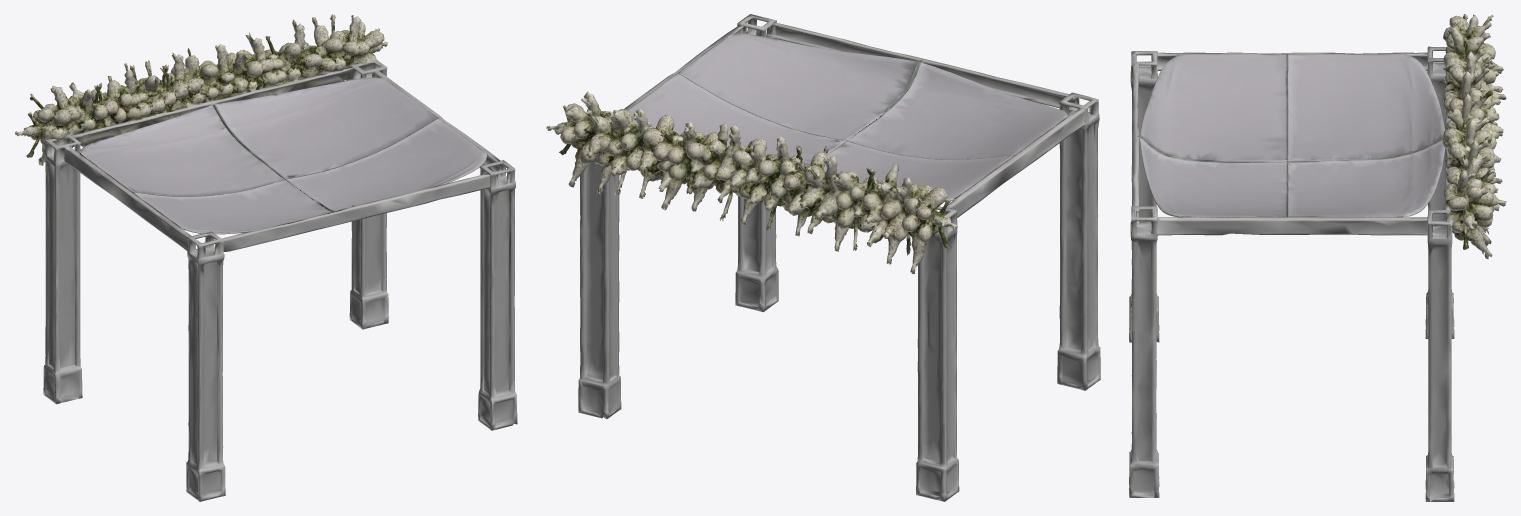
Rendered from chuppah-acrylic.glb.
3 renders of one model, left to right at view 1: azimuth 30°, elevation 25°; view 2: azimuth 150°, elevation 25°; view 3: azimuth 270°, elevation 25°, orthographic. The views are drawn at different scales.
Visible parts, largest first — view 1: tripo_part_1, tripo_part_0, tripo_part_2, tripo_part_4, tripo_part_3, tripo_part_5, tripo_part_6, tripo_part_7; view 2: tripo_part_1, tripo_part_0, tripo_part_4, tripo_part_3, tripo_part_5, tripo_part_2, tripo_part_6, tripo_part_7; view 3: tripo_part_1, tripo_part_2, tripo_part_0, tripo_part_5, tripo_part_4, tripo_part_3, tripo_part_7, tripo_part_6.
Boxes of the visible parts, <box> form: tripo_part_1: <box>79,77,487,234</box>; tripo_part_0: <box>15,14,387,165</box>; tripo_part_2: <box>373,70,517,430</box>; tripo_part_4: <box>186,231,225,501</box>; tripo_part_3: <box>43,133,87,404</box>; tripo_part_5: <box>341,59,388,329</box>; tripo_part_6: <box>222,173,490,251</box>; tripo_part_7: <box>64,146,191,251</box>; tripo_part_1: <box>628,33,1067,201</box>; tripo_part_0: <box>546,91,957,274</box>; tripo_part_4: <box>1057,92,1100,390</box>; tripo_part_3: <box>916,206,959,501</box>; tripo_part_5: <box>578,159,621,419</box>; tripo_part_2: <box>624,14,778,312</box>; tripo_part_6: <box>772,22,1073,110</box>; tripo_part_7: <box>947,107,1085,217</box>; tripo_part_1: <box>1139,54,1445,218</box>; tripo_part_2: <box>1129,206,1427,497</box>; tripo_part_0: <box>1442,14,1506,259</box>; tripo_part_5: <box>1425,208,1454,501</box>; tripo_part_4: <box>1129,51,1159,342</box>; tripo_part_3: <box>1417,46,1454,338</box>; tripo_part_7: <box>1156,52,1427,71</box>; tripo_part_6: <box>1133,65,1139,216</box>.
Bounding box in the file's own units: 3.49 × 2.7 × 2.81.
Materials: 1 (1 with a texture image).
